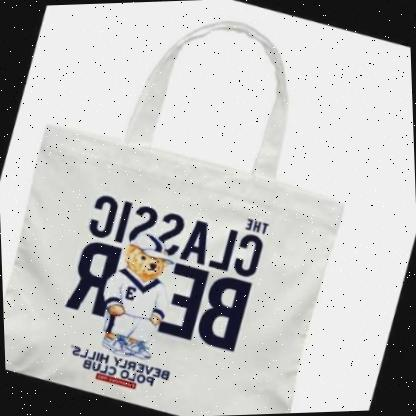bag: (0, 12, 368, 416)
